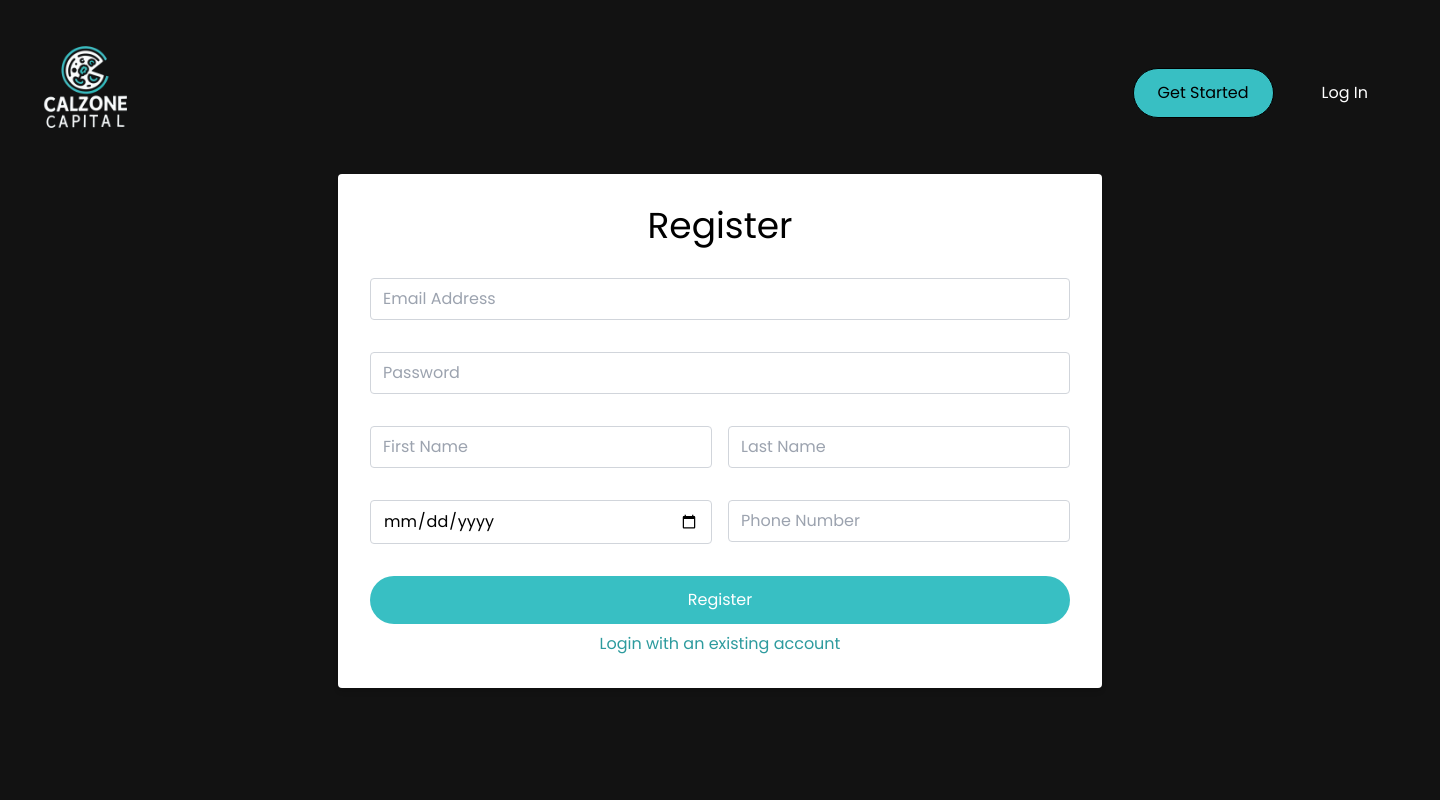
Registration Form Tests › validates password lenght
The width and height of the screenshot is (1440, 800).
Note: Fill all other fields except password
In the field with placeholder "Email Address": point(720, 299) [370,278,1070,320], type "user@example.com"
In the field with placeholder "First Name": point(541, 447) [370,426,712,468], type "John"
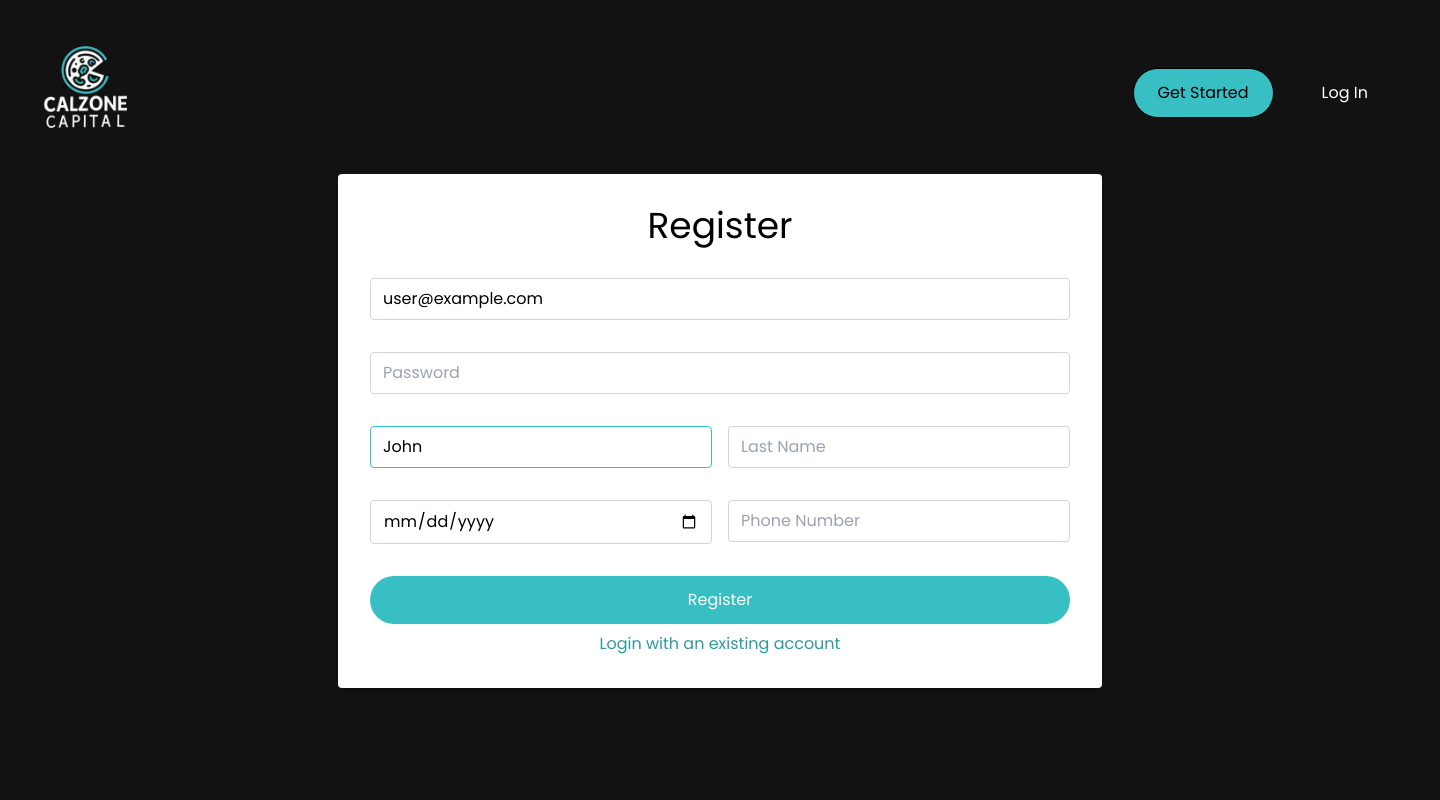
In the field with placeholder "Last Name": point(899, 447) [728,426,1070,468], type "Doe"
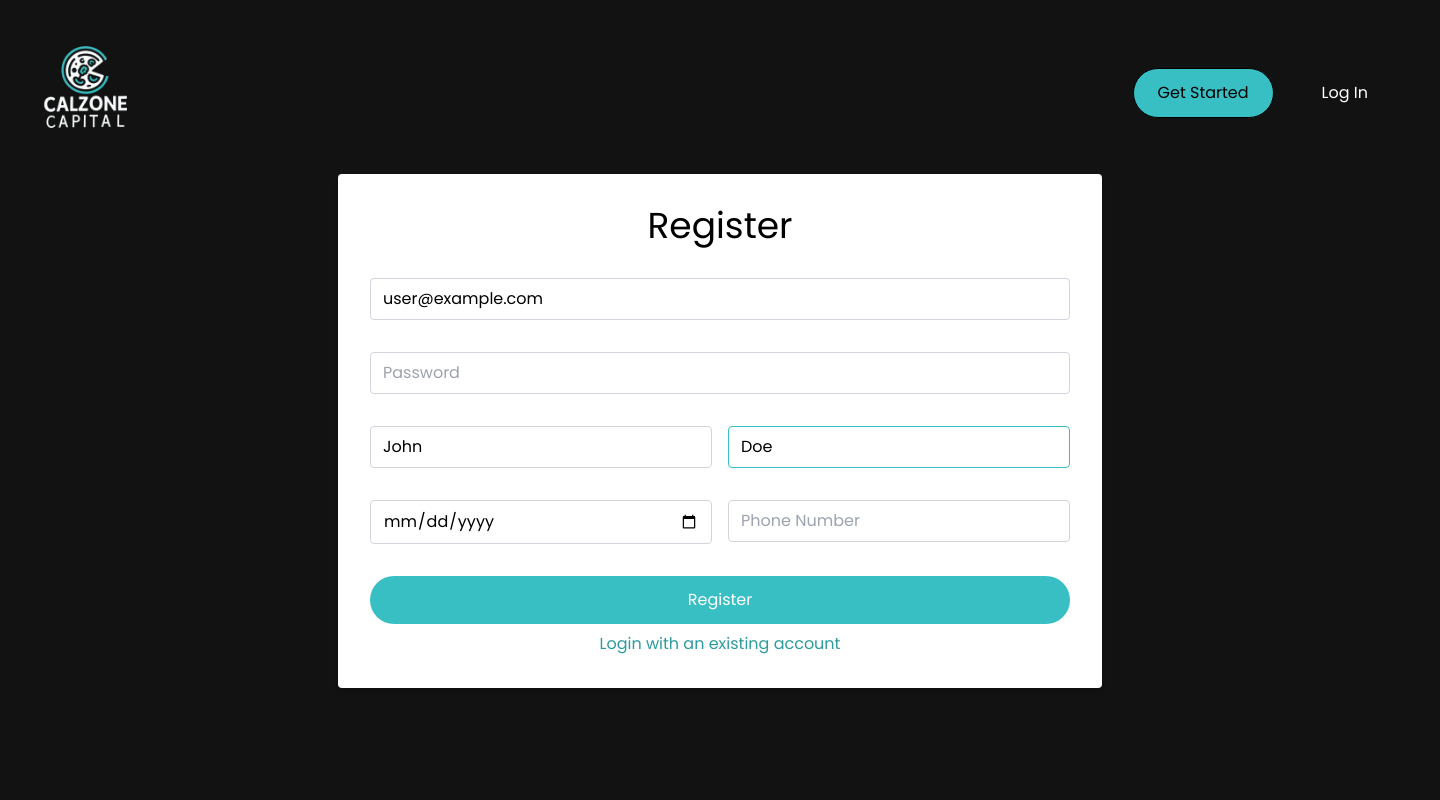
In the date field with placeholder "Date of Birth": point(541, 522) [370,500,712,544], type "1990-01-01"
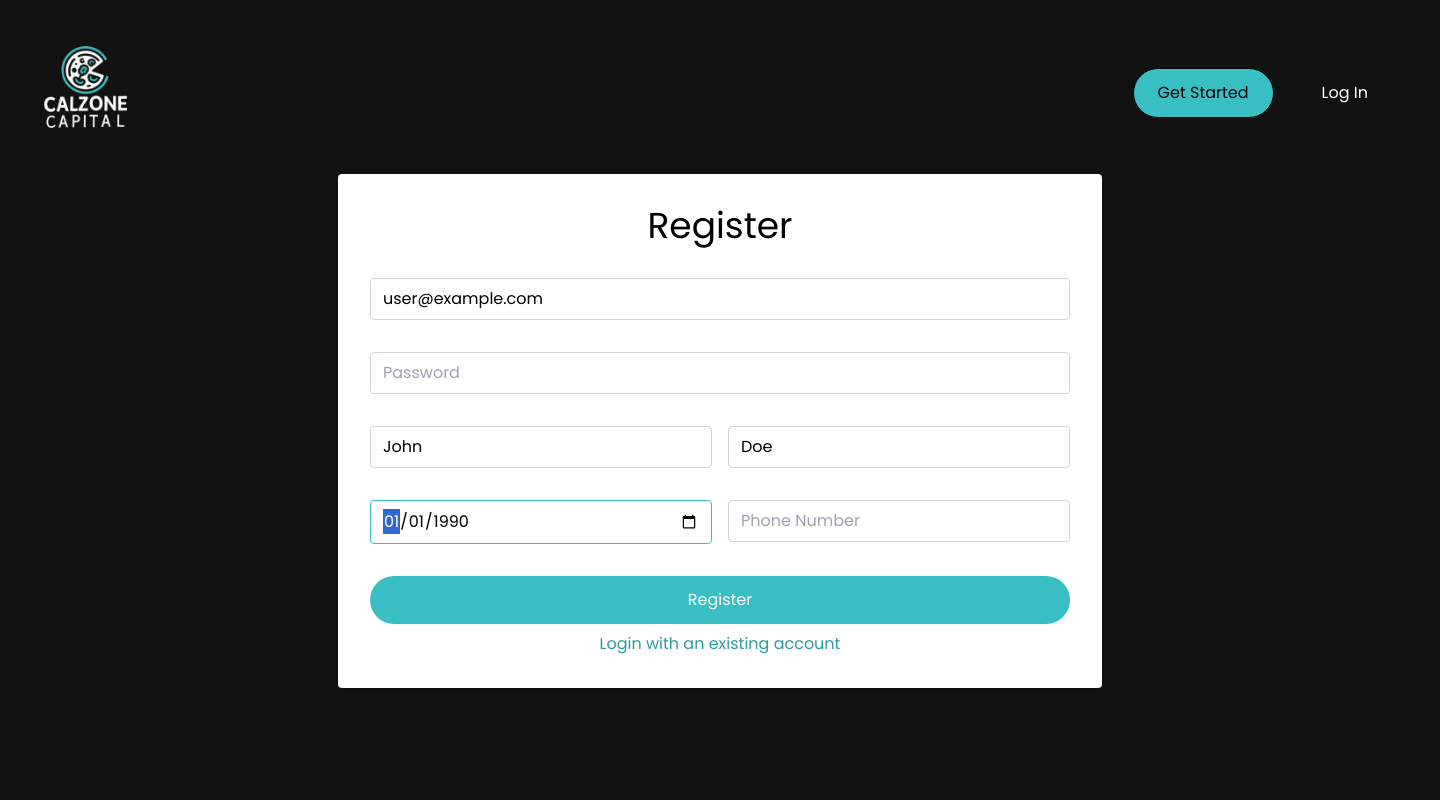
In the field with placeholder "Phone Number": point(899, 521) [728,500,1070,542], type "9876543210"
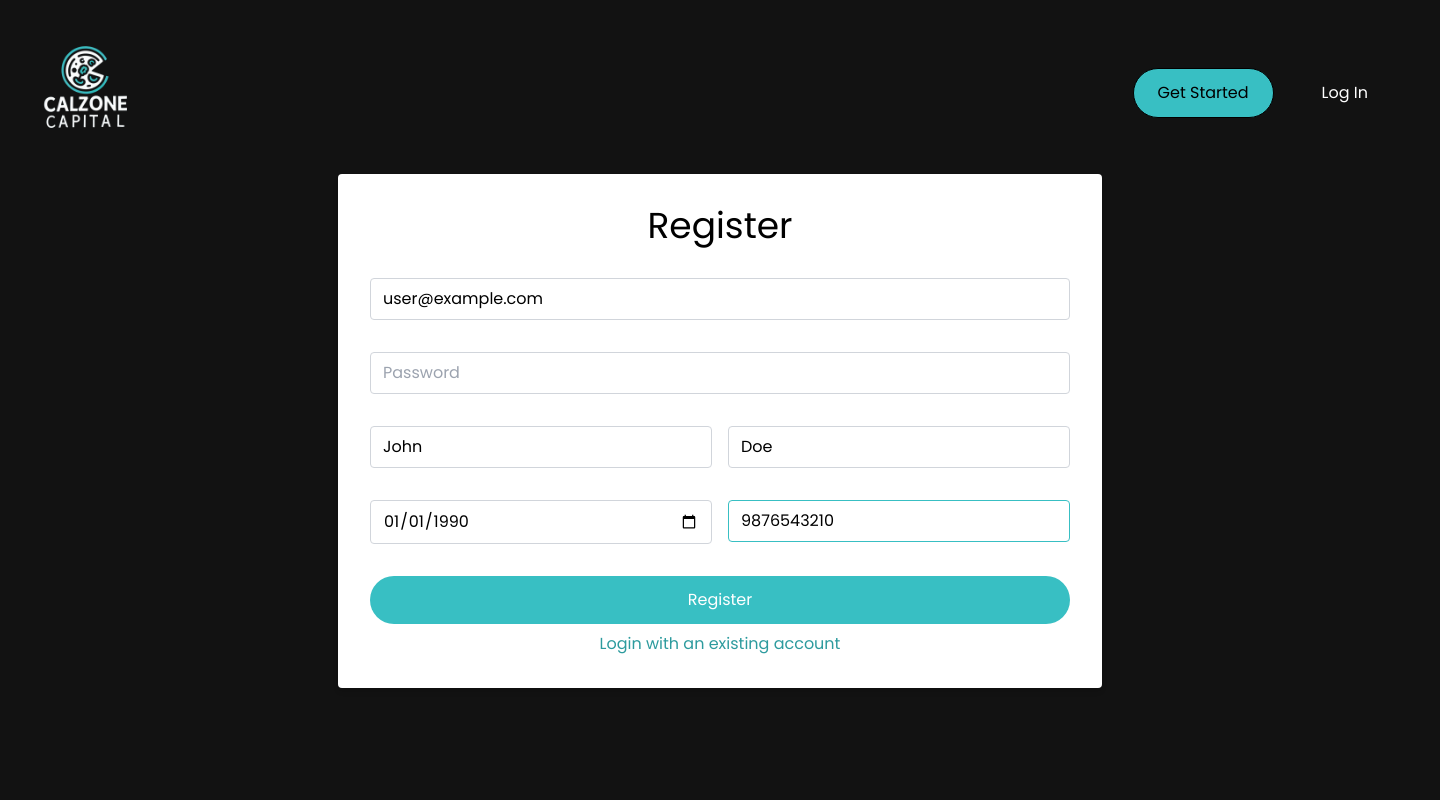
Note: Enter a short password
In the password field with placeholder "Password": point(720, 373) [370,352,1070,394], type "short"
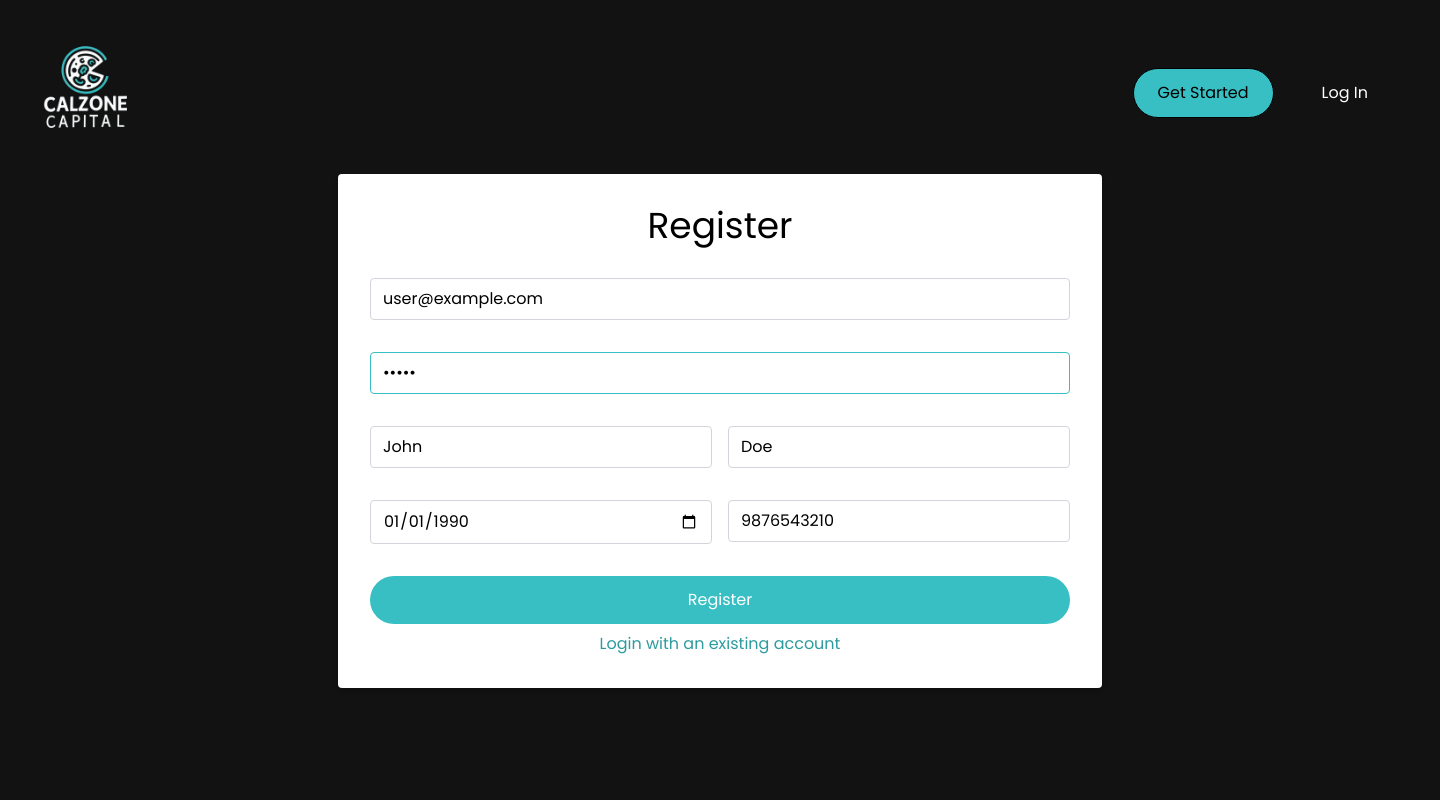
Click the button "Register": point(720, 600) [370,576,1070,624]
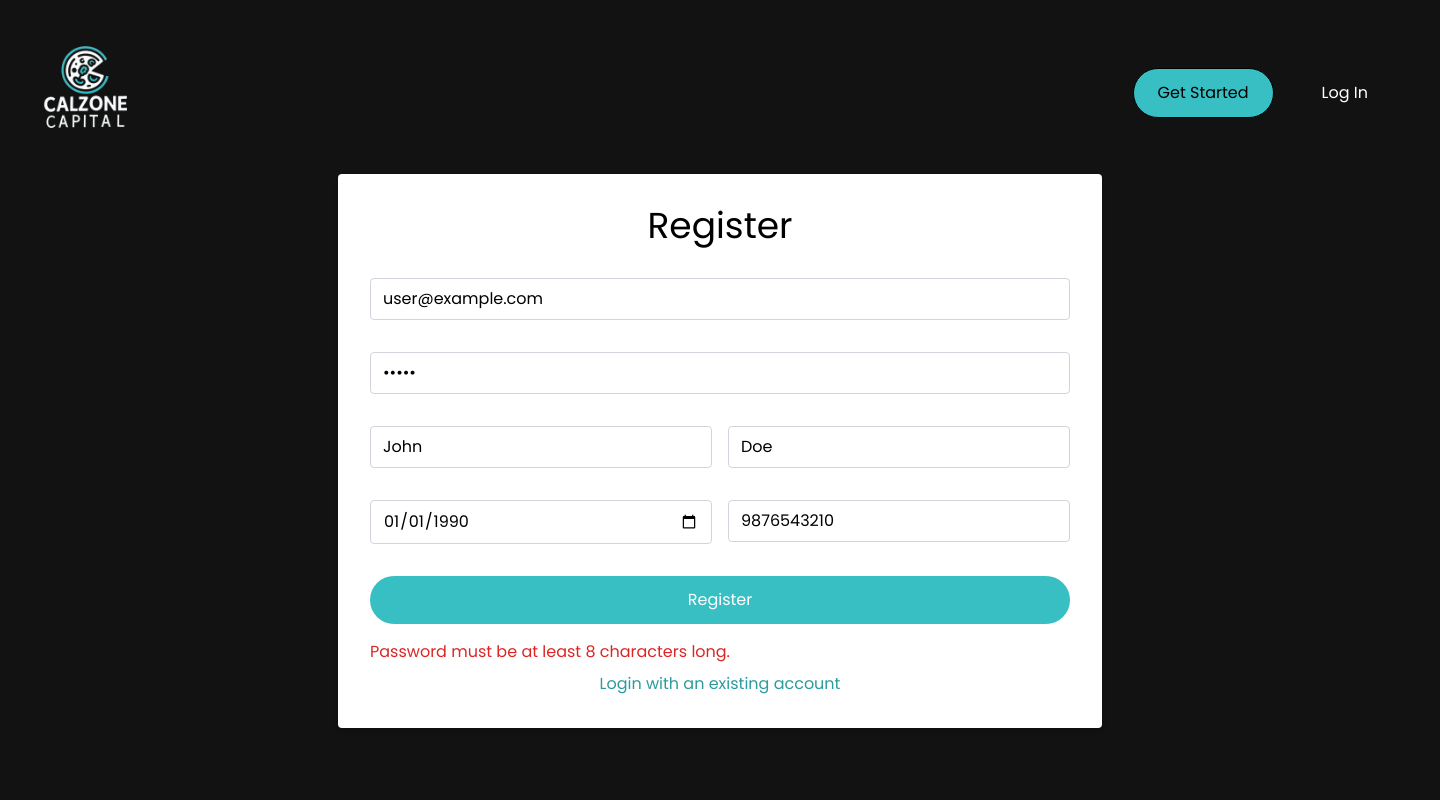
expect the text "Password must be at least 8 characters long." is shown: met, box [370,640,730,663]
